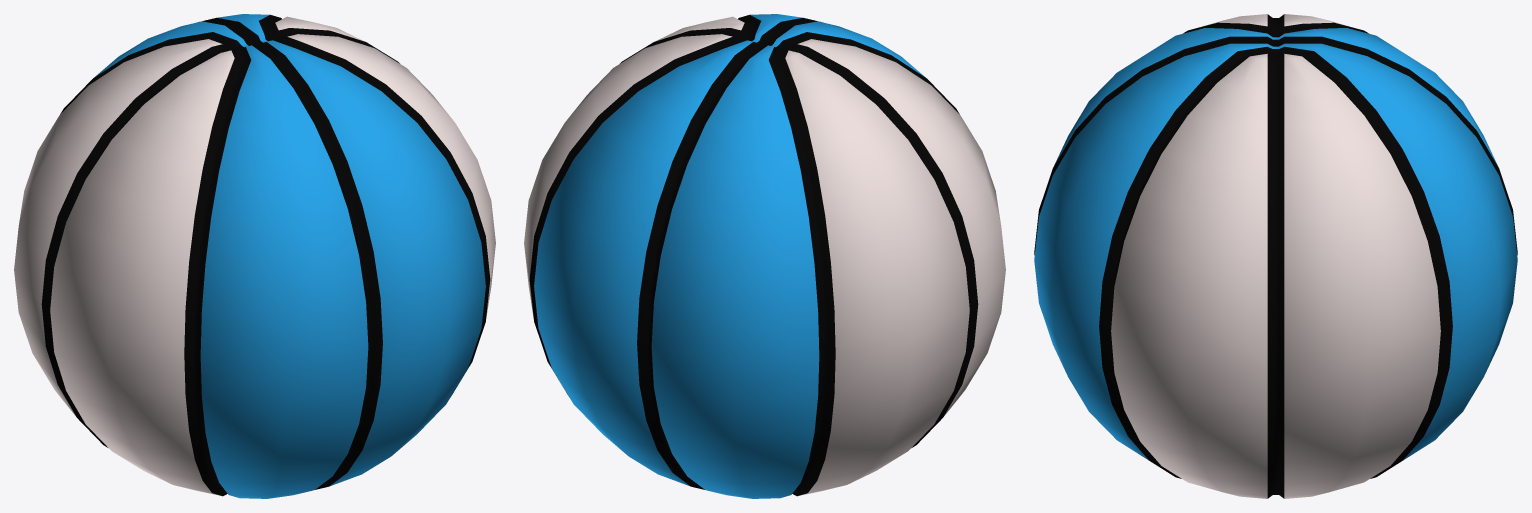
The model's file is Basketball5.glb.
3 views of the same model, side by side, from view 1: azimuth 30°, elevation 25°; view 2: azimuth 150°, elevation 25°; view 3: azimuth 270°, elevation 25° (orthographic).
Parts seen in each view (by area): view 1: Sphere.006; view 2: Sphere.006; view 3: Sphere.006.
Part boxes in pixels (x1,y1,x2,y2): Sphere.006: (14,14,495,498); Sphere.006: (524,14,1005,498); Sphere.006: (1034,14,1517,498).
Size of the model in its own units: 1.99 by 1.96 by 1.99.
